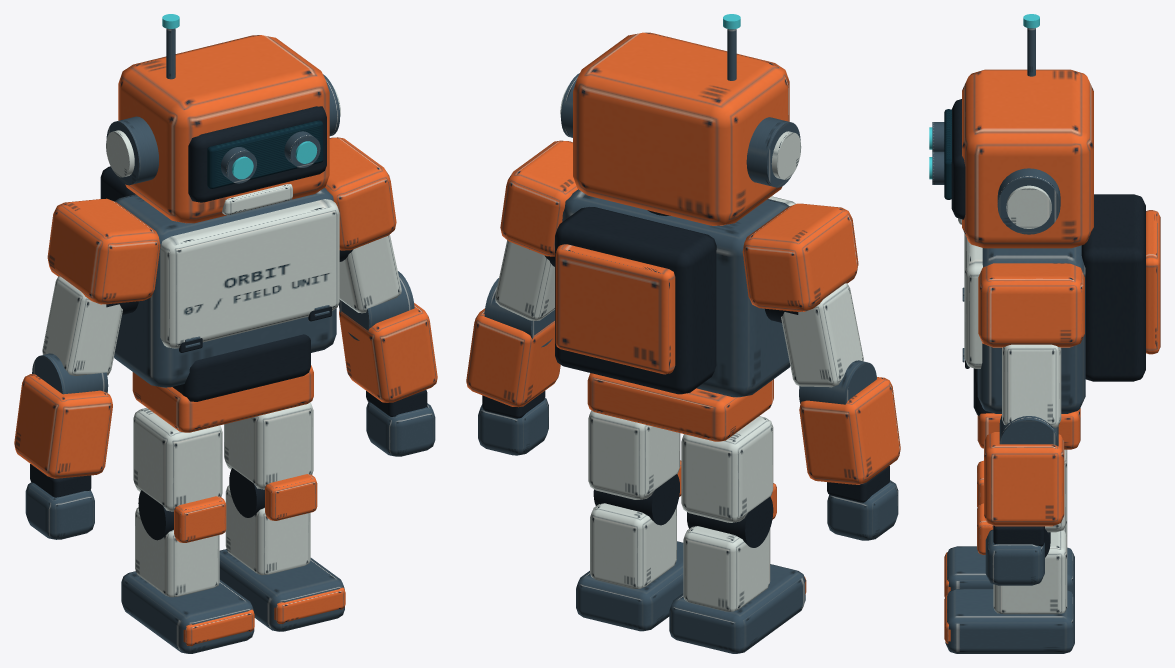
File: orbit07.obj
3 views of the same model, side by side, from view 1: azimuth 30°, elevation 25°; view 2: azimuth 150°, elevation 25°; view 3: azimuth 270°, elevation 25° (orthographic). The views are drawn at different scales.
Visible parts, largest first — view 1: chest_ceramic, head_shell, shoulder, forearm, thigh, boot, torso_chassis, shin, upper_arm, hand, waist_orange, abdomen (+13 smaller); view 2: head_shell, shoulder, forearm, thigh, backpack, backpack_cover, shin, torso_chassis, boot, upper_arm, waist_orange, hand (+5 smaller); view 3: head_shell, backpack, shoulder, boot, forearm, torso_chassis, upper_arm, shin, hand, backpack_cover, chest_ceramic, ear_hub (+11 smaller).
Part boxes in pixels (left/top/right/bottom): chest_ceramic: left=160, top=199, right=339, bottom=348; head_shell: left=118, top=35, right=329, bottom=223; shoulder: left=47, top=137, right=396, bottom=304; forearm: left=14, top=303, right=437, bottom=478; thigh: left=133, top=402, right=313, bottom=511; boot: left=121, top=549, right=344, bottom=653; torso_chassis: left=114, top=188, right=336, bottom=387; shin: left=135, top=485, right=310, bottom=597; upper_arm: left=42, top=234, right=401, bottom=375; hand: left=25, top=402, right=435, bottom=539; waist_orange: left=132, top=365, right=313, bottom=432; abdomen: left=173, top=334, right=310, bottom=401; head_shell: left=573, top=32, right=789, bottom=225; shoulder: left=500, top=140, right=858, bottom=311; forearm: left=466, top=308, right=900, bottom=484; thigh: left=588, top=410, right=773, bottom=522; backpack: left=555, top=207, right=716, bottom=394; backpack_cover: left=555, top=244, right=675, bottom=374; shin: left=590, top=503, right=770, bottom=611; torso_chassis: left=562, top=189, right=790, bottom=397; boot: left=576, top=541, right=805, bottom=653; upper_arm: left=495, top=240, right=863, bottom=387; waist_orange: left=587, top=373, right=773, bottom=441; hand: left=478, top=398, right=898, bottom=540; head_shell: left=962, top=69, right=1093, bottom=248; backpack: left=1081, top=194, right=1145, bottom=381; shoulder: left=978, top=263, right=1084, bottom=347; boot: left=945, top=546, right=1074, bottom=653; forearm: left=984, top=432, right=1064, bottom=526; torso_chassis: left=977, top=245, right=1085, bottom=413; upper_arm: left=1002, top=344, right=1061, bottom=427; shin: left=993, top=522, right=1067, bottom=614; hand: left=985, top=529, right=1044, bottom=585; backpack_cover: left=1146, top=210, right=1160, bottom=354; chest_ceramic: left=964, top=233, right=982, bottom=368; ear_hub: left=997, top=168, right=1060, bottom=234.
Size of the model in its own units: 3.44 by 5.07 by 1.84.
Materials: 1 (1 with a texture image).
